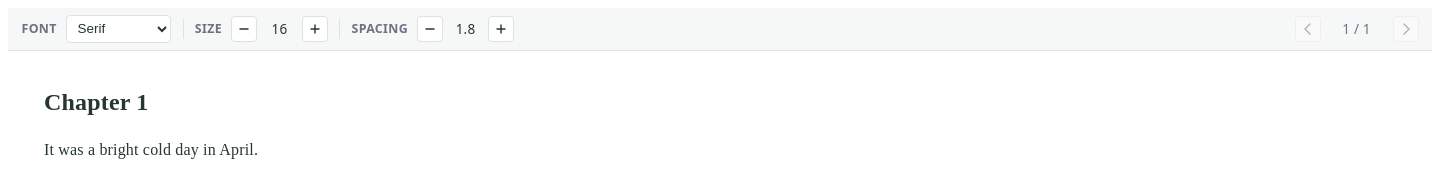
EpubReader › decreases font size
Click the button named "Decrease font size". click: (244,29)
box: [231, 16, 257, 42]
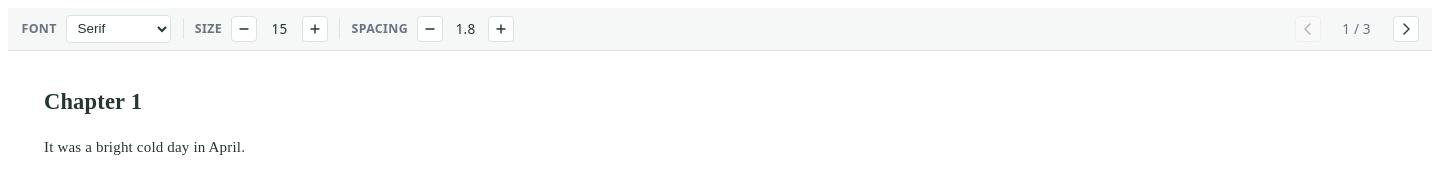
Now the text named "Font size" reads "15", box [272, 20, 287, 38]
